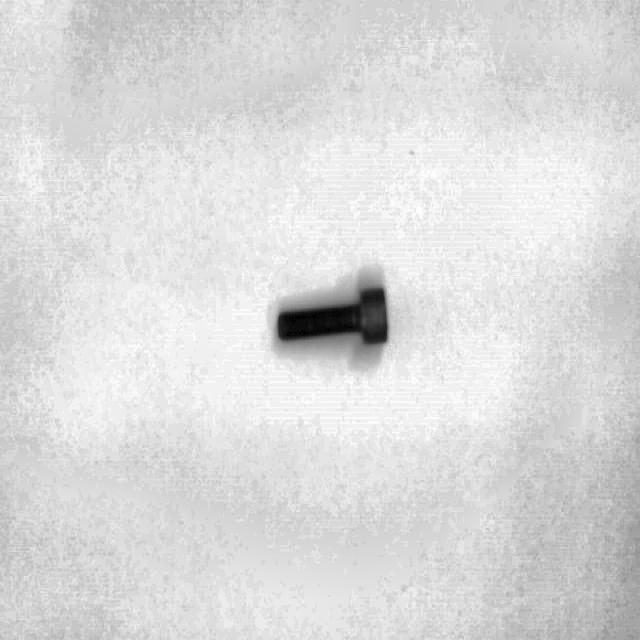Socket head cap screw: (275, 284, 389, 347)
